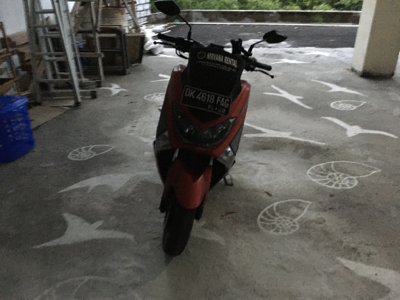moto: (141, 25, 252, 272)
